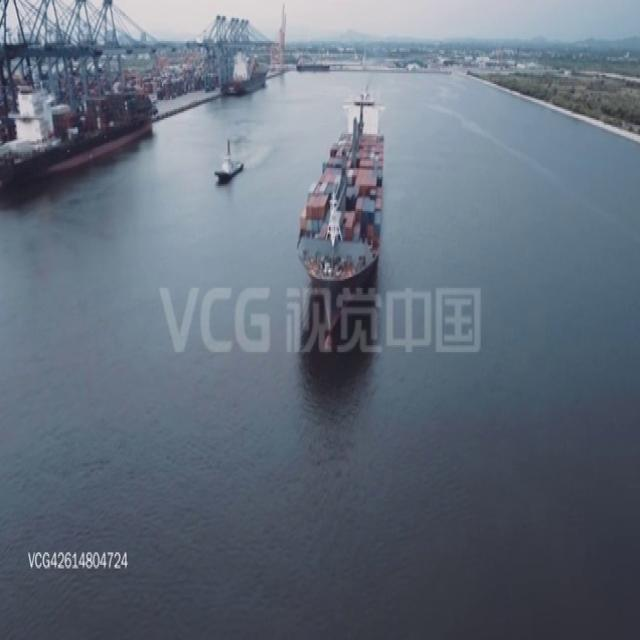cargoship: (299, 91, 385, 332)
houseboat: (213, 138, 243, 181)
